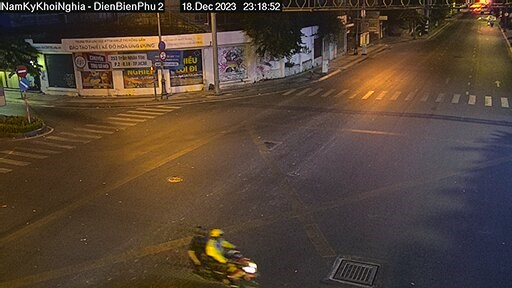motorbike: (172, 224, 281, 288)
